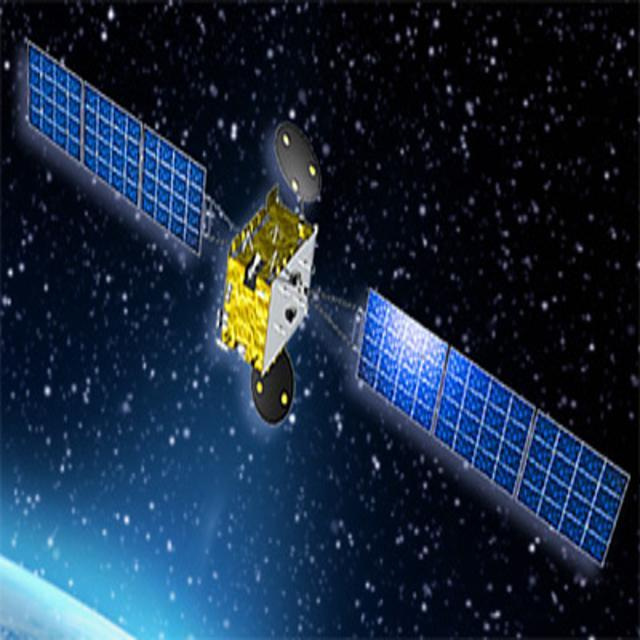sat: (2, 3, 640, 576)
